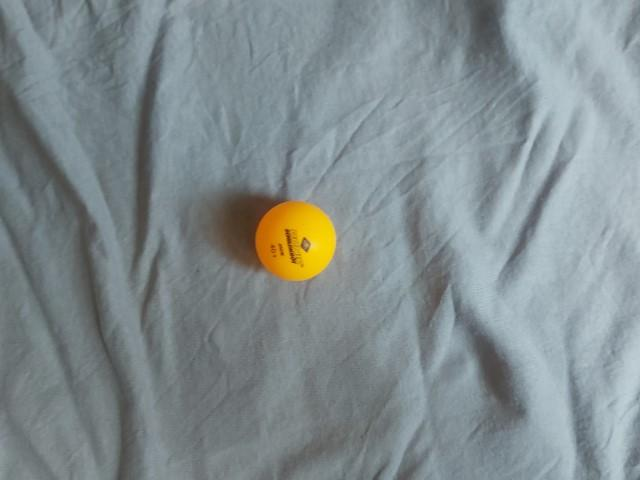oball: (247, 195, 343, 288)
